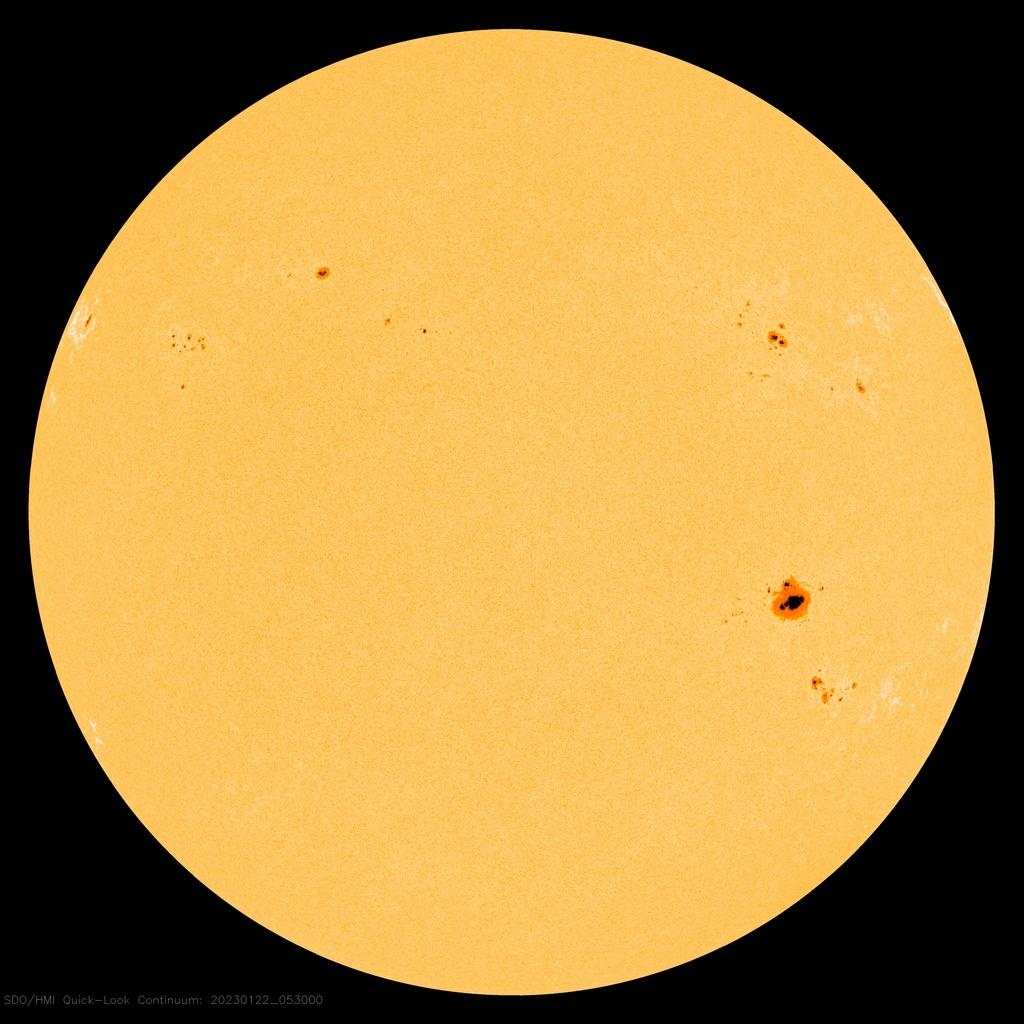flare: (718, 565, 832, 628), (728, 295, 796, 389), (164, 324, 214, 397), (801, 667, 866, 713), (377, 307, 434, 345), (827, 371, 874, 405), (307, 258, 339, 286), (77, 308, 101, 340)
